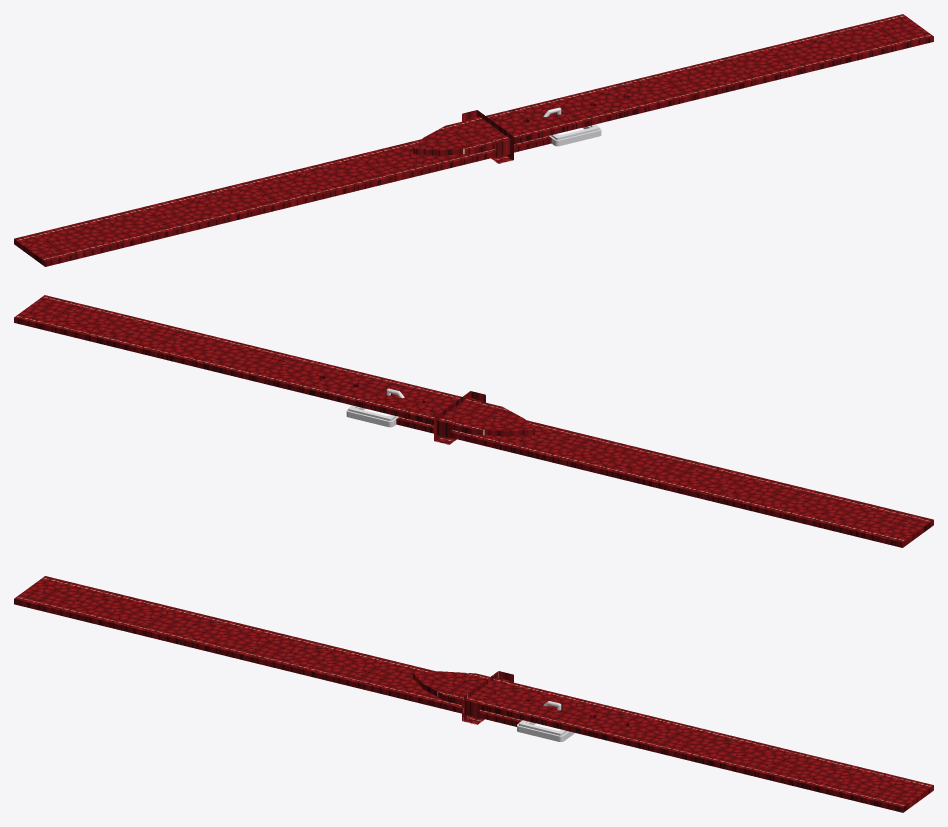
File: veto-belt-red.glb
The picture shows the model from 3 angles, top to bottom: view 1: azimuth 30°, elevation 25°; view 2: azimuth 150°, elevation 25°; view 3: azimuth 330°, elevation 25°; orthographic projection.
Parts seen in each view (by area): view 1: strap_right, strap_left, keeper, buckle_frame; view 2: strap_right, strap_left, keeper, buckle_frame; view 3: strap_right, strap_left, keeper, buckle_frame.
Boxes of the visible parts, left/top/right/bottom form: strap_right: left=413, top=14, right=933, bottom=155; strap_left: left=14, top=136, right=551, bottom=266; keeper: left=462, top=110, right=513, bottom=163; buckle_frame: left=549, top=124, right=601, bottom=146; strap_right: left=14, top=295, right=534, bottom=436; strap_left: left=396, top=417, right=933, bottom=547; keeper: left=434, top=391, right=485, bottom=444; buckle_frame: left=346, top=405, right=398, bottom=427; strap_right: left=413, top=671, right=933, bottom=812; strap_left: left=14, top=576, right=522, bottom=726; keeper: left=462, top=671, right=513, bottom=724; buckle_frame: left=517, top=720, right=574, bottom=741.
Bounding box in the file's own units: 66.8 × 1.74 × 5.3.
2 materials, 1 textured.
